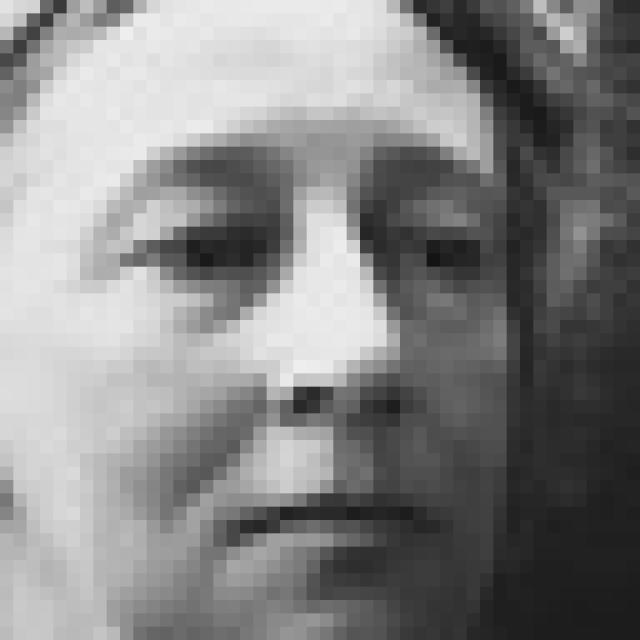sad: (93, 121, 497, 596)
